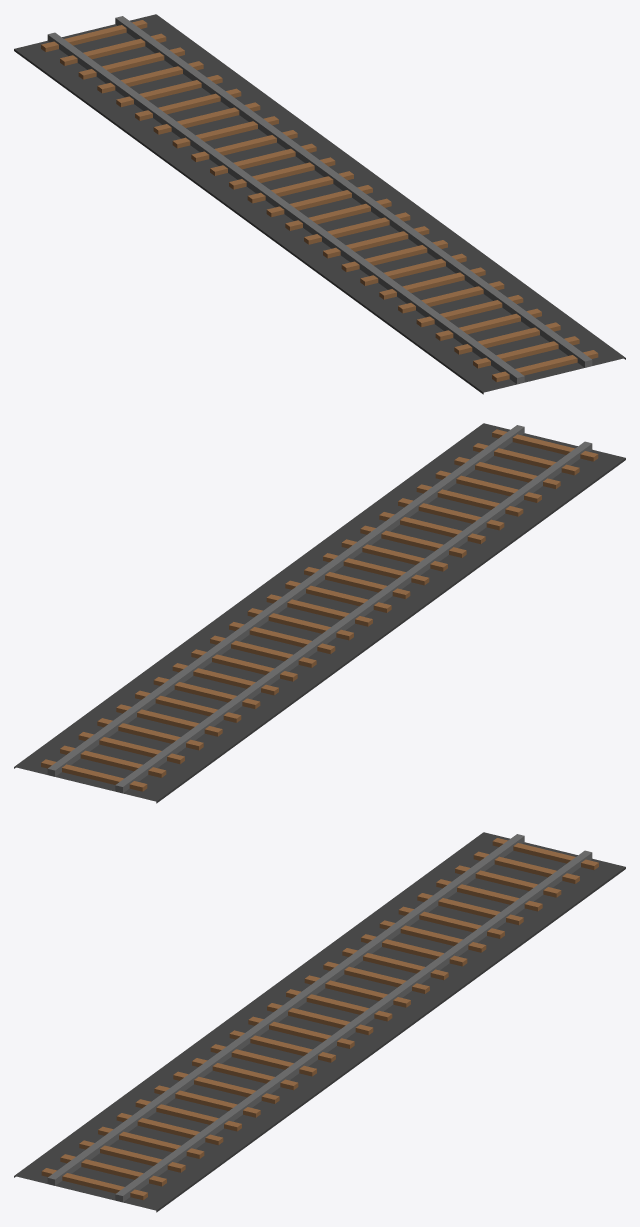
File: SM_Floor_Railway_01.fbx
3 views of the same model, one above another, from view 1: azimuth 30°, elevation 25°; view 2: azimuth 150°, elevation 25°; view 3: azimuth 330°, elevation 25° (orthographic).
Visible parts, largest first — view 1: SM_Floor_Railway_01; view 2: SM_Floor_Railway_01; view 3: SM_Floor_Railway_01.
Part boxes in pixels (bbox=[...]): SM_Floor_Railway_01: bbox=[14, 14, 625, 394]; SM_Floor_Railway_01: bbox=[14, 423, 625, 803]; SM_Floor_Railway_01: bbox=[14, 832, 625, 1212].
Size of the model in its own units: 3.5 by 0.2 by 20.
